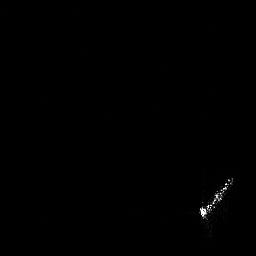ship: (198, 174, 235, 224)
